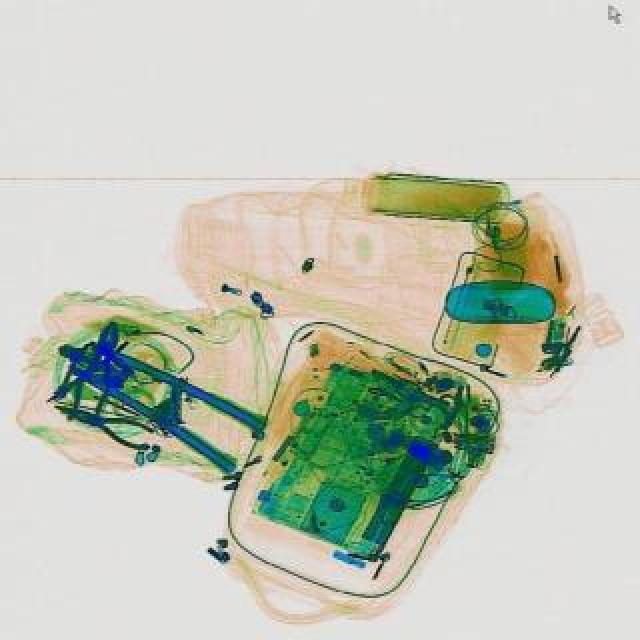wrench: (60, 314, 132, 426), (46, 392, 158, 454)
